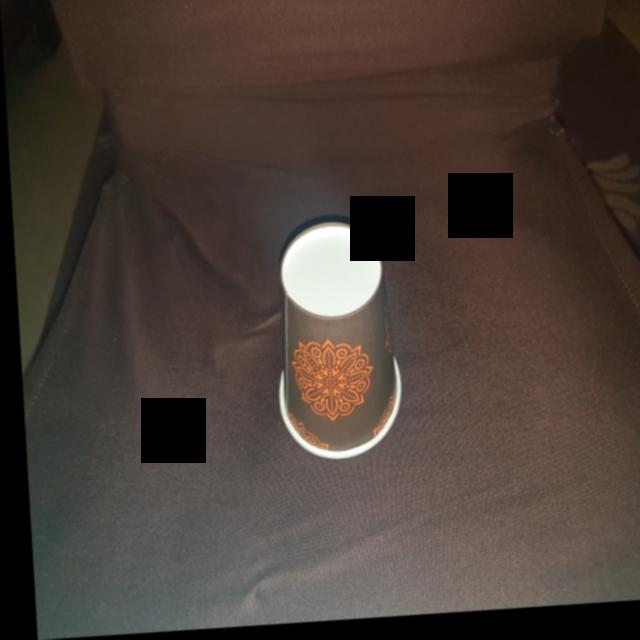cups: (252, 209, 413, 478)
